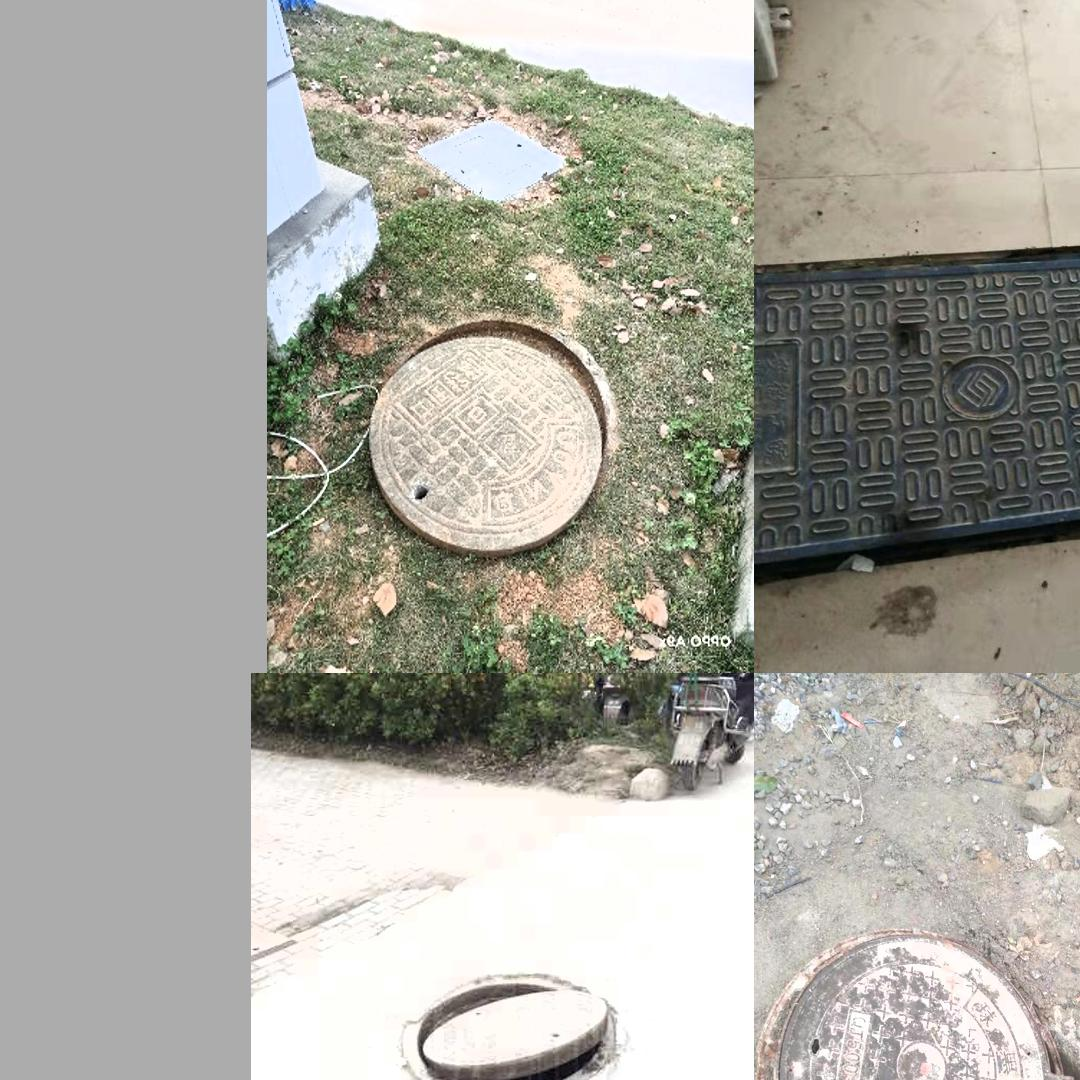uncovered: (760, 231, 1080, 591), (367, 309, 617, 555), (759, 929, 1080, 1080), (401, 974, 620, 1080)
